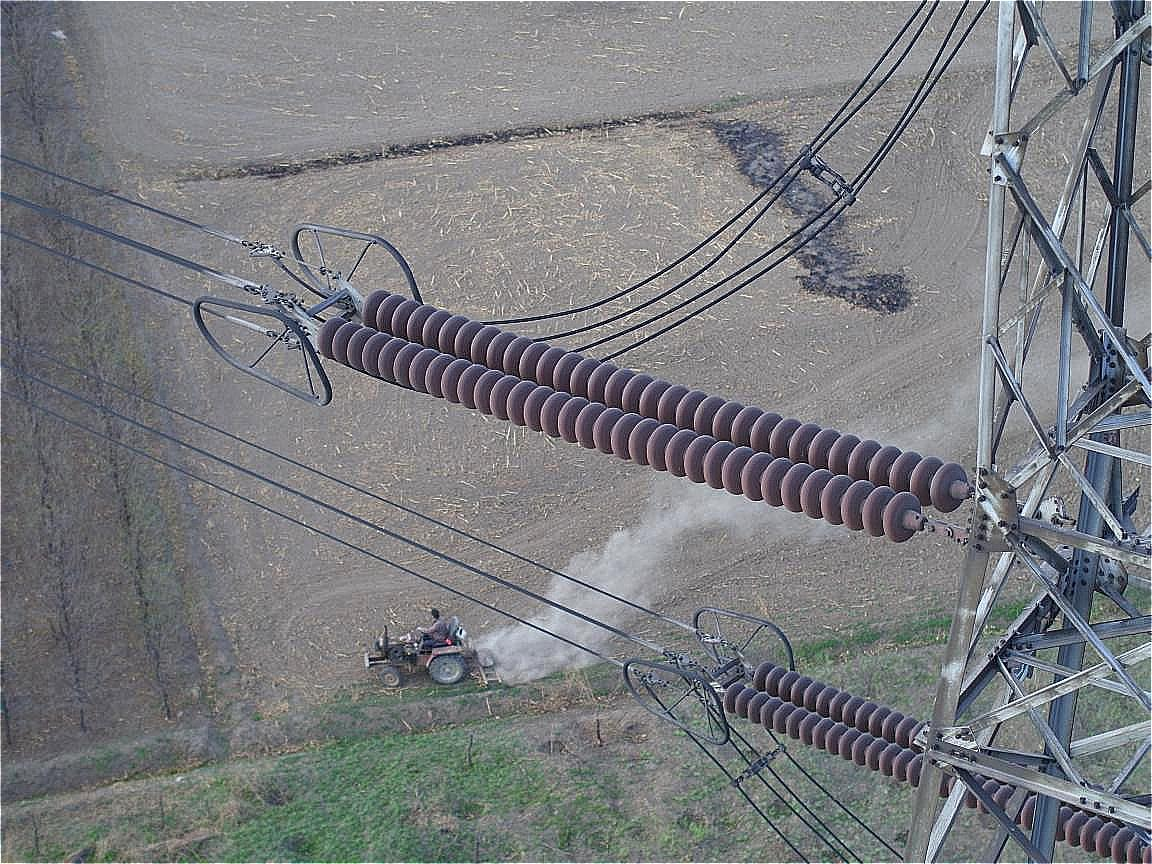insultor1: (315, 287, 968, 543)
